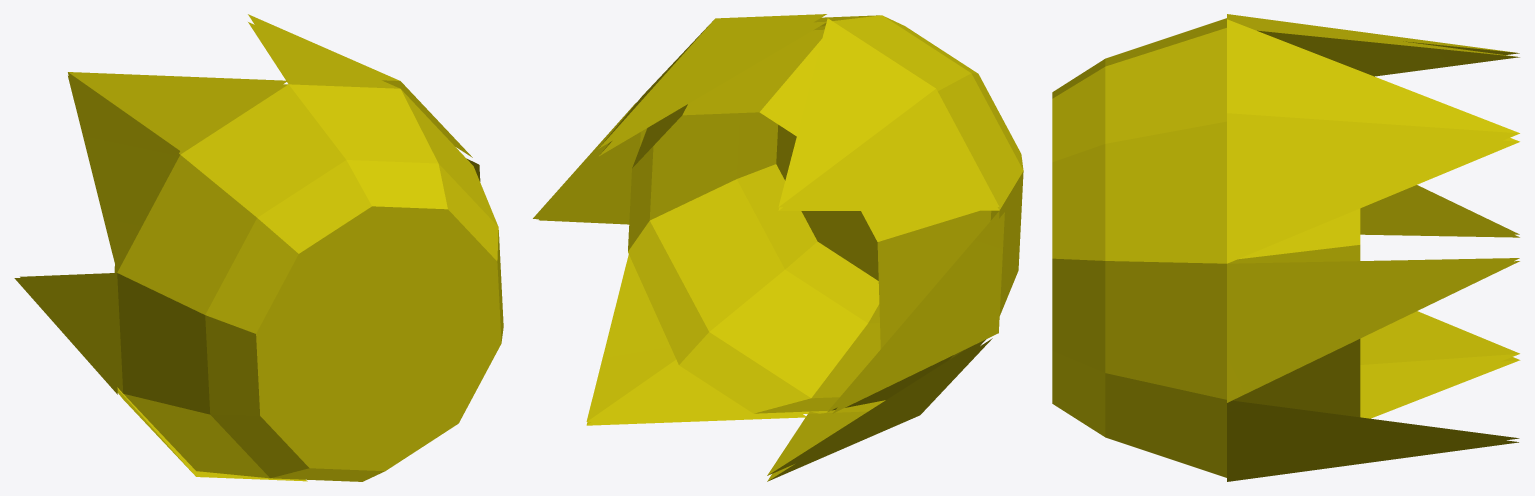
Rendered from CanonAnimation.fbx.
The picture shows the model from 3 angles, left to right: view 1: azimuth 30°, elevation 25°; view 2: azimuth 150°, elevation 25°; view 3: azimuth 270°, elevation 25°; orthographic projection. The views are drawn at different scales.
Visible parts, largest first — view 1: MilkJar1; view 2: MilkJar1; view 3: MilkJar1.
Part boxes in pixels (left/top/right/bottom): MilkJar1: left=14, top=14, right=503, bottom=481; MilkJar1: left=533, top=14, right=1023, bottom=481; MilkJar1: left=1052, top=14, right=1520, bottom=481.
Bounding box in the file's own units: 2.51 × 2.63 × 2.51.
